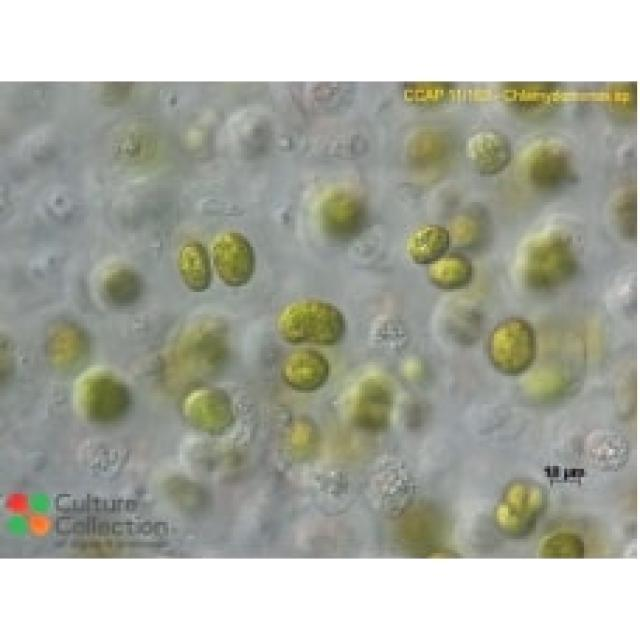Green Algae: (176, 379, 238, 438), (312, 185, 371, 244), (483, 314, 536, 374), (79, 368, 132, 424), (463, 123, 511, 177), (93, 261, 146, 309), (214, 233, 258, 286), (528, 137, 570, 191), (309, 300, 351, 351), (45, 323, 87, 373), (275, 295, 312, 345), (281, 348, 331, 382), (491, 502, 536, 539), (542, 522, 589, 556), (177, 244, 210, 292), (404, 126, 446, 163), (427, 256, 474, 286), (407, 225, 449, 258), (508, 474, 545, 511), (348, 399, 387, 432), (356, 373, 393, 407), (522, 261, 550, 292), (550, 256, 576, 286), (522, 233, 547, 258)
